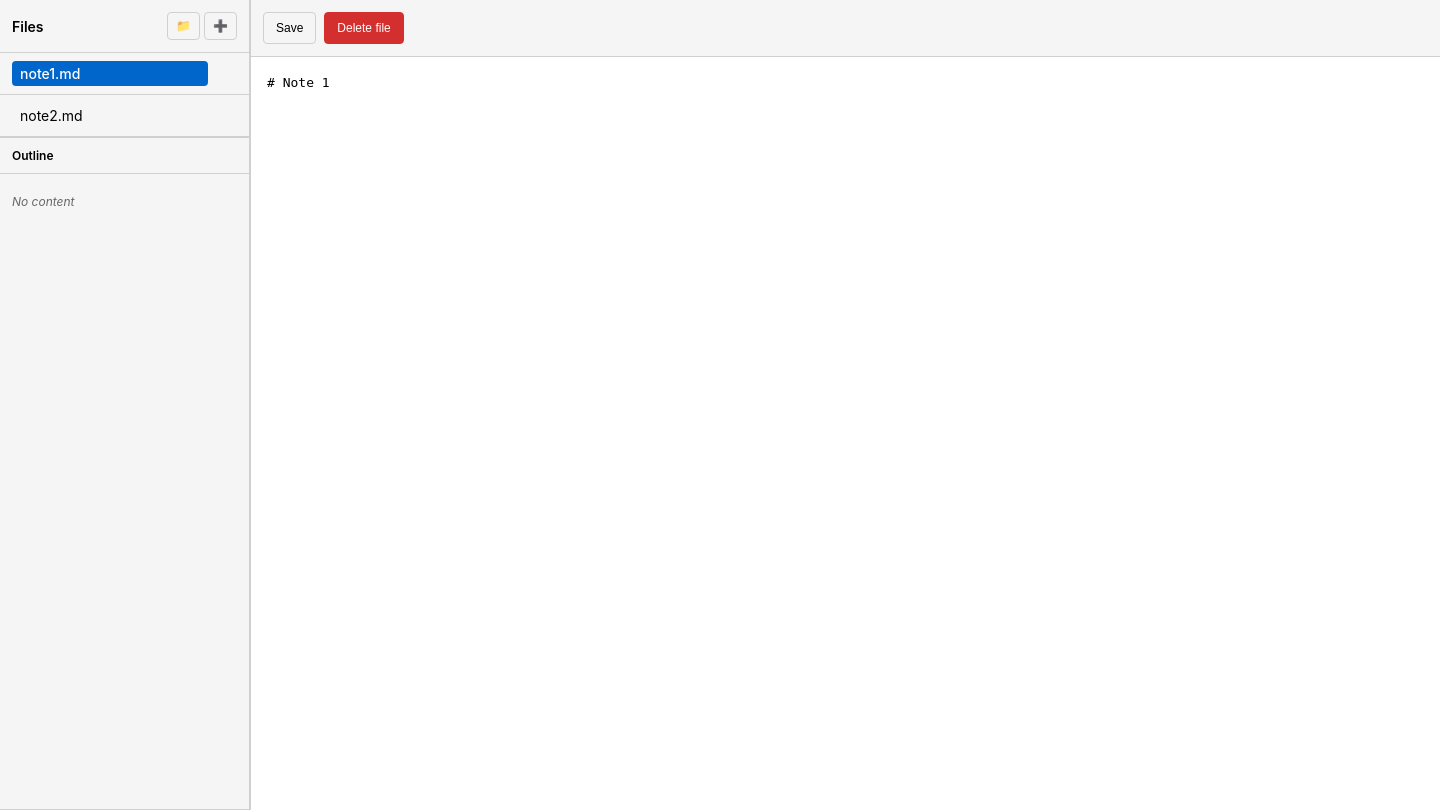
Test: AppShell + Editor delete flow › deletes a file and refreshes the file list
Expected: the link "note1.md" is shown, [12,61,208,86]
Expected: the link "note2.md" is shown, [20,107,83,124]
Click the button "Delete file": (364, 28) [324,12,404,44]
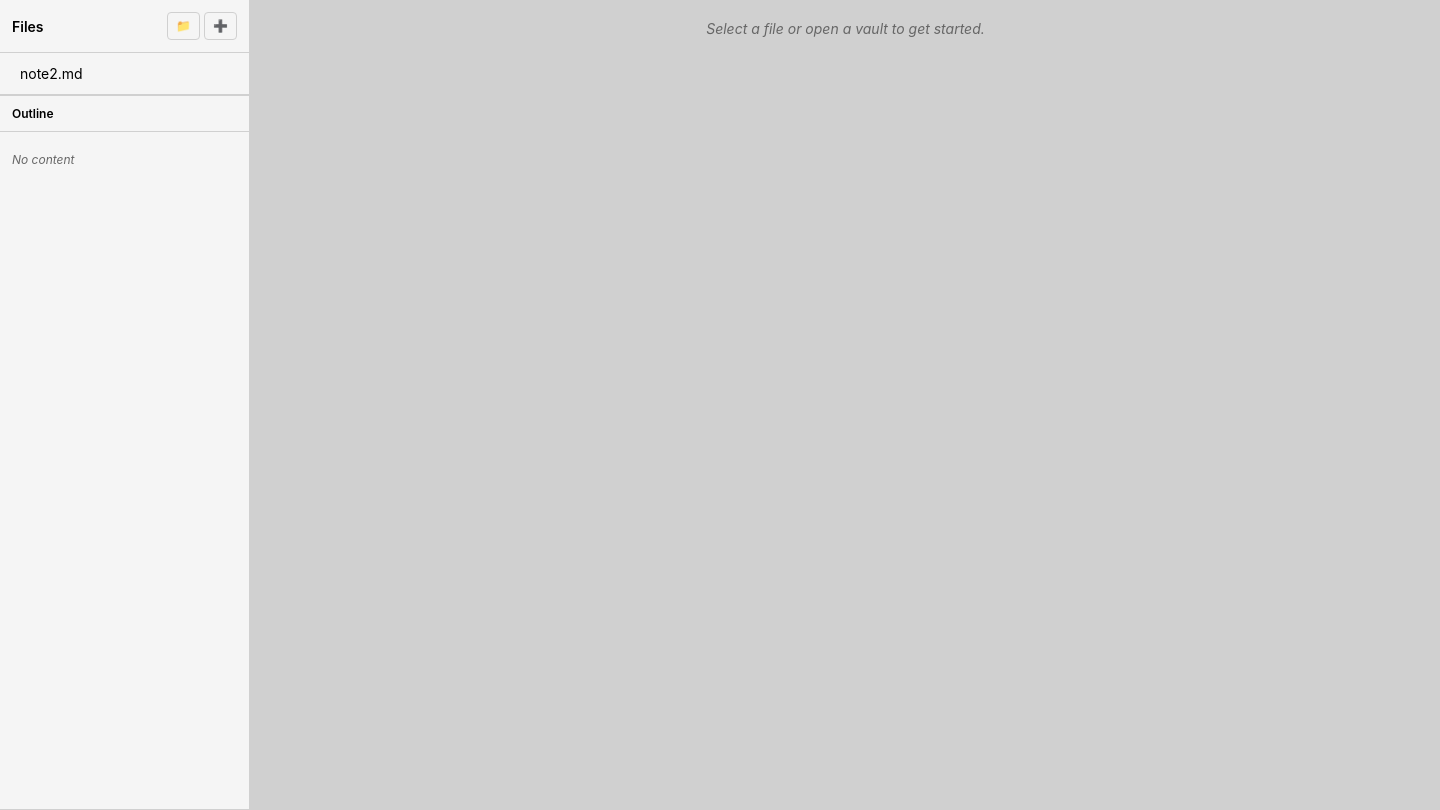
Expected: the link "note2.md" is shown, [20,65,83,82]
Expected: the link "note1.md" is gone
